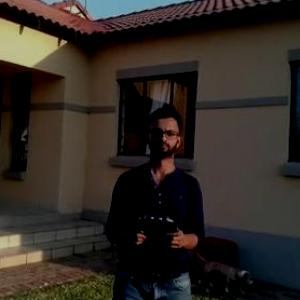follow: (97, 99, 212, 299)
null: (194, 245, 259, 298)
